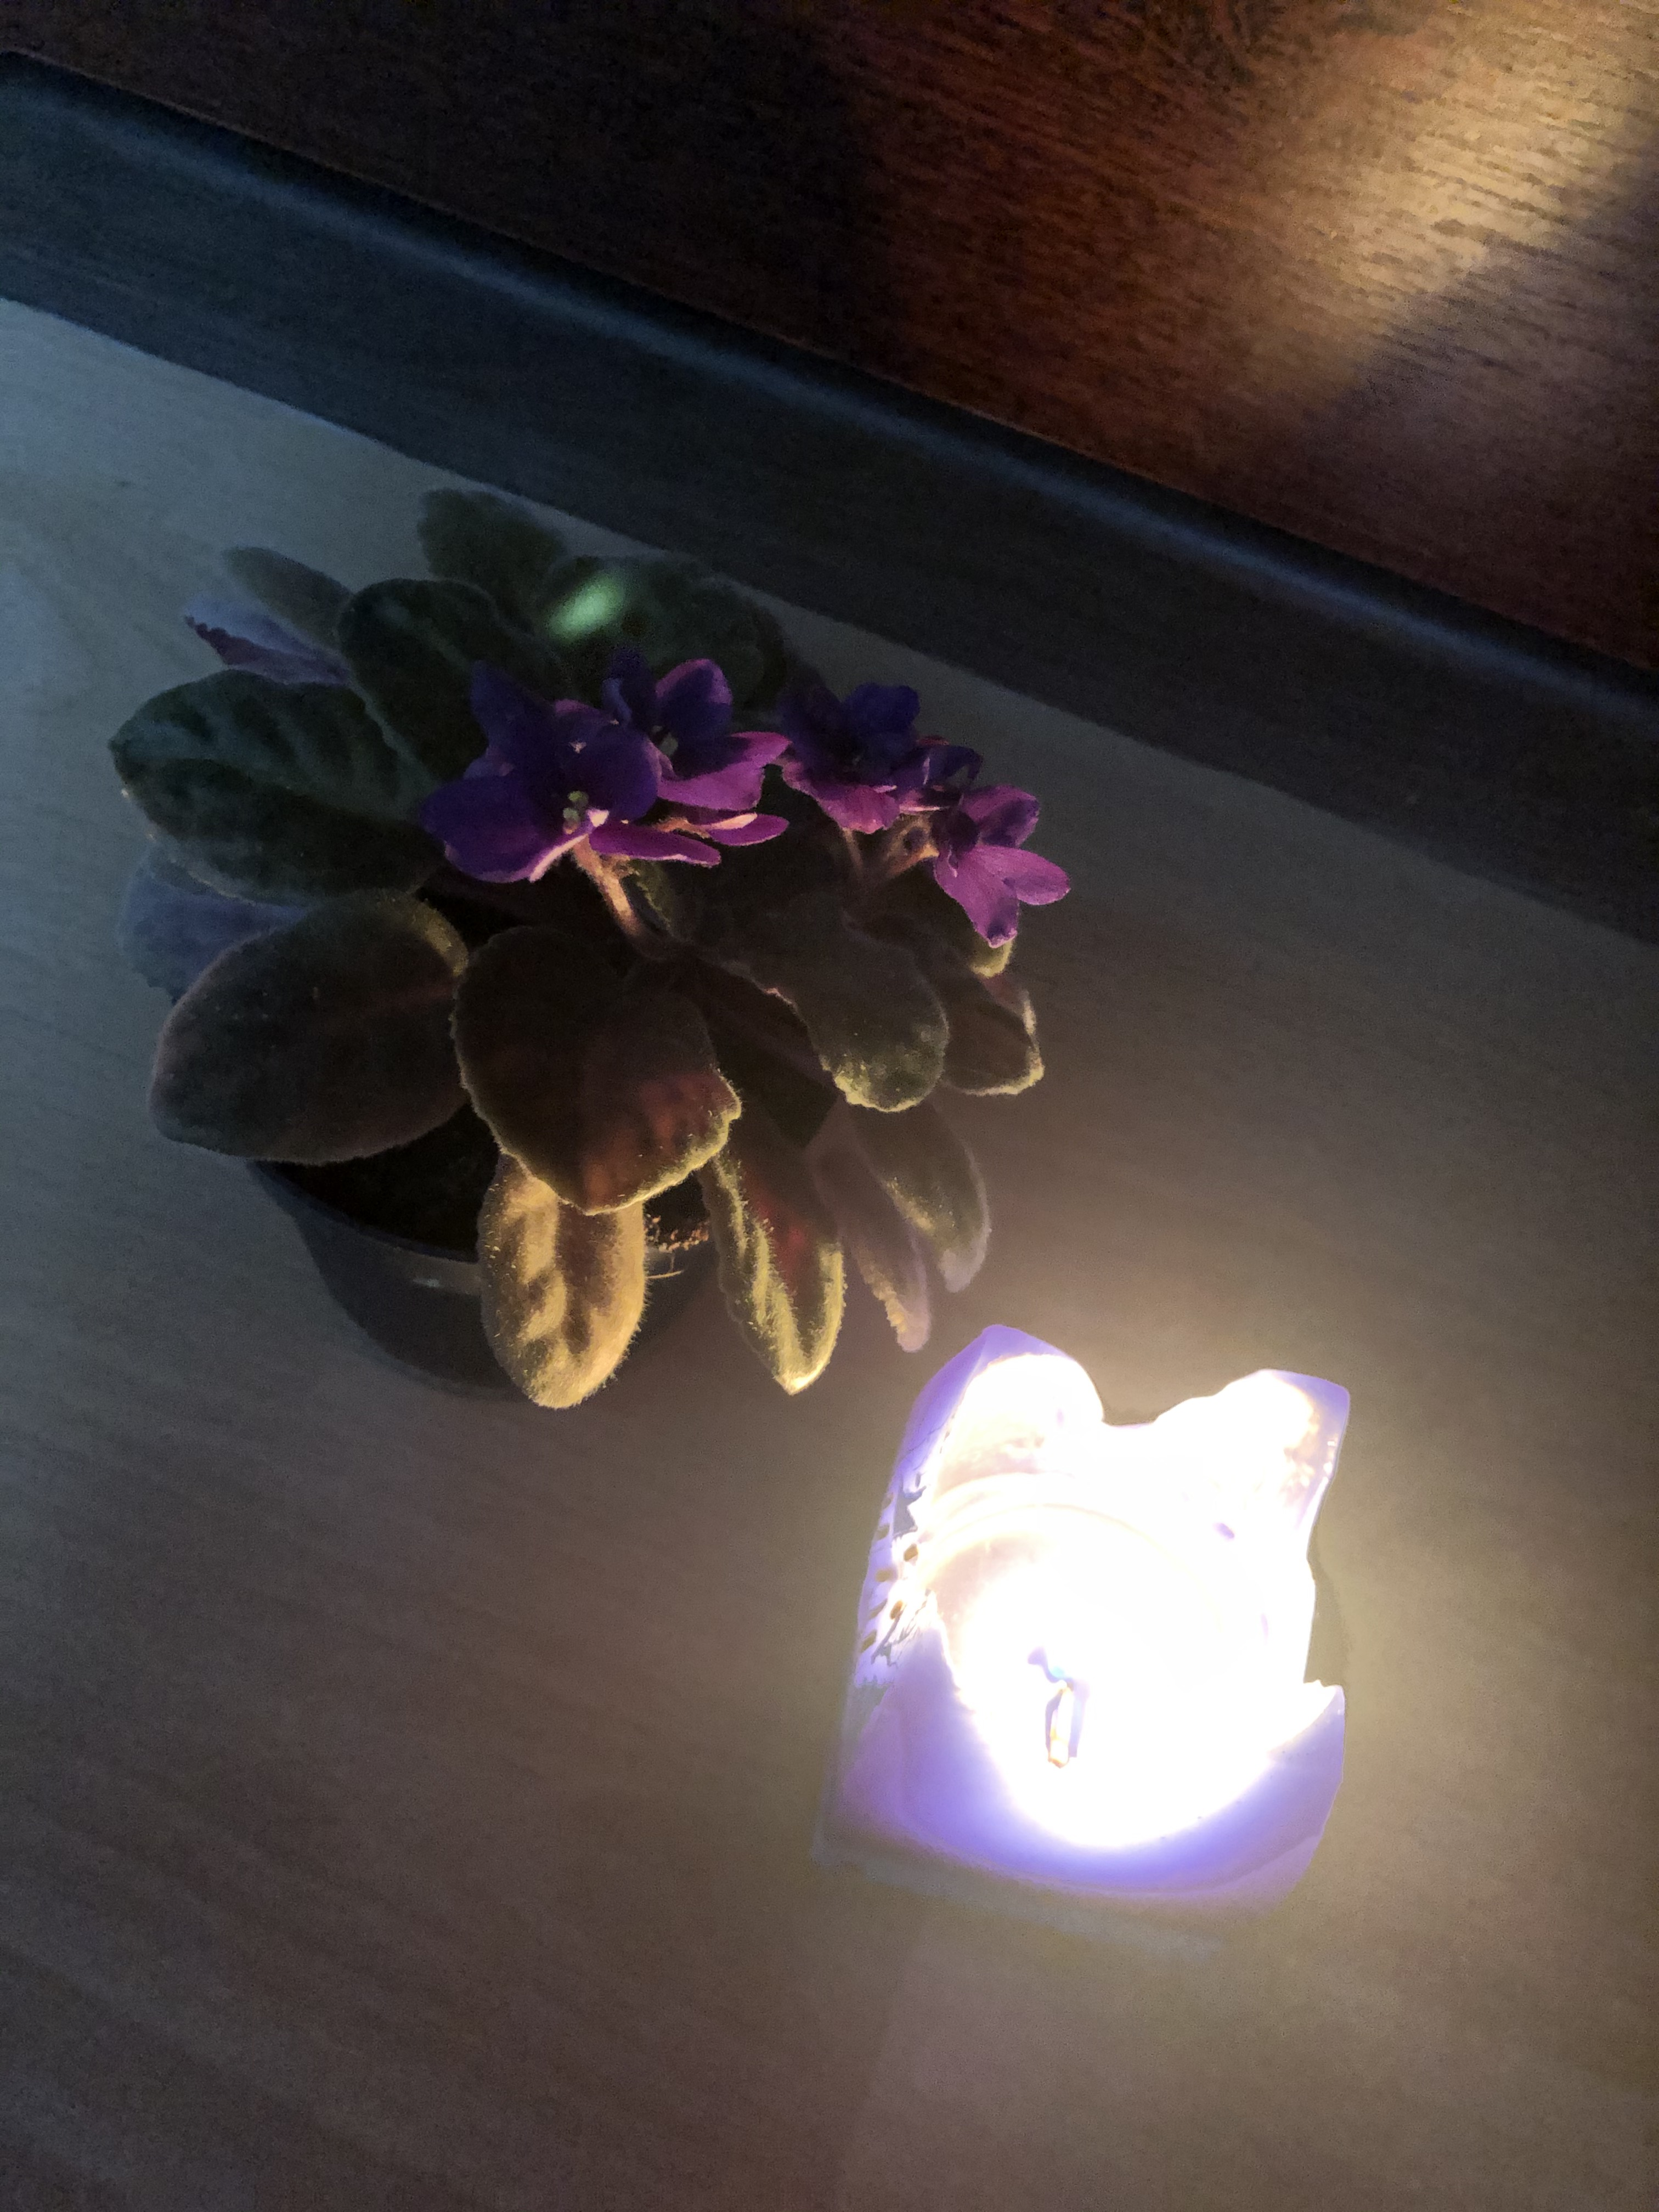ignore: (103, 444, 1053, 1359)
